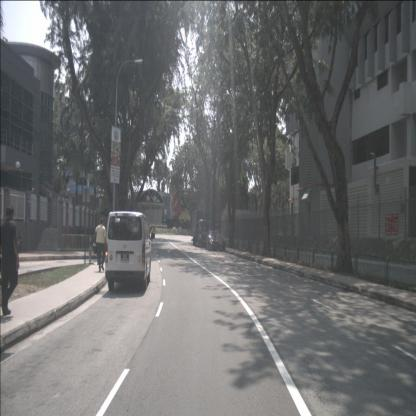human-pedestrian-adult: (0, 205, 20, 316), (96, 218, 108, 272)
vehicle-car: (105, 211, 151, 291), (206, 231, 225, 251)
vehicle-truck: (192, 210, 214, 247)
